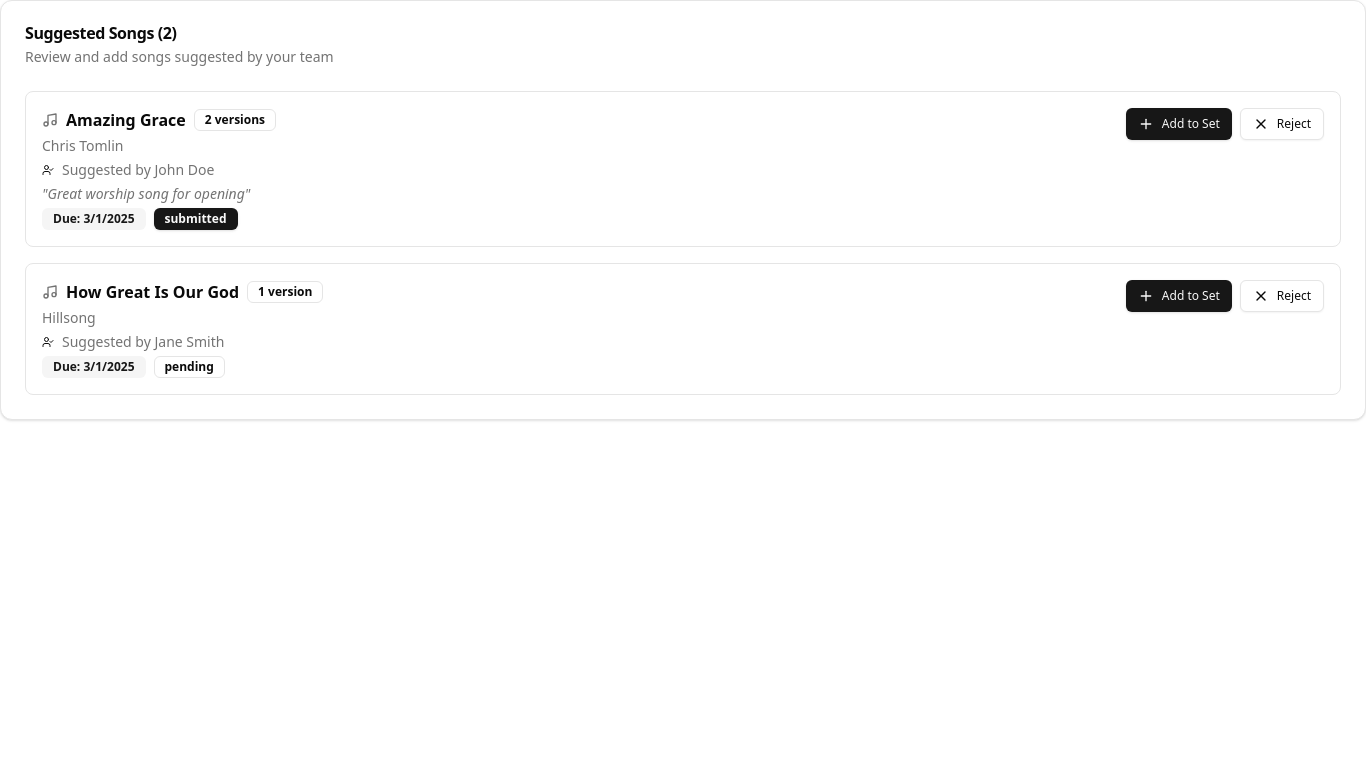
it: SuggestedSongs Component › Actions › should open version selection dialog when "Add to Set" clicked
The width and height of the screenshot is (1366, 768).
Click the button "Add to Set" in the row of "Amazing Grace" at [1179, 124], box left=1126, top=108, right=1232, bottom=140
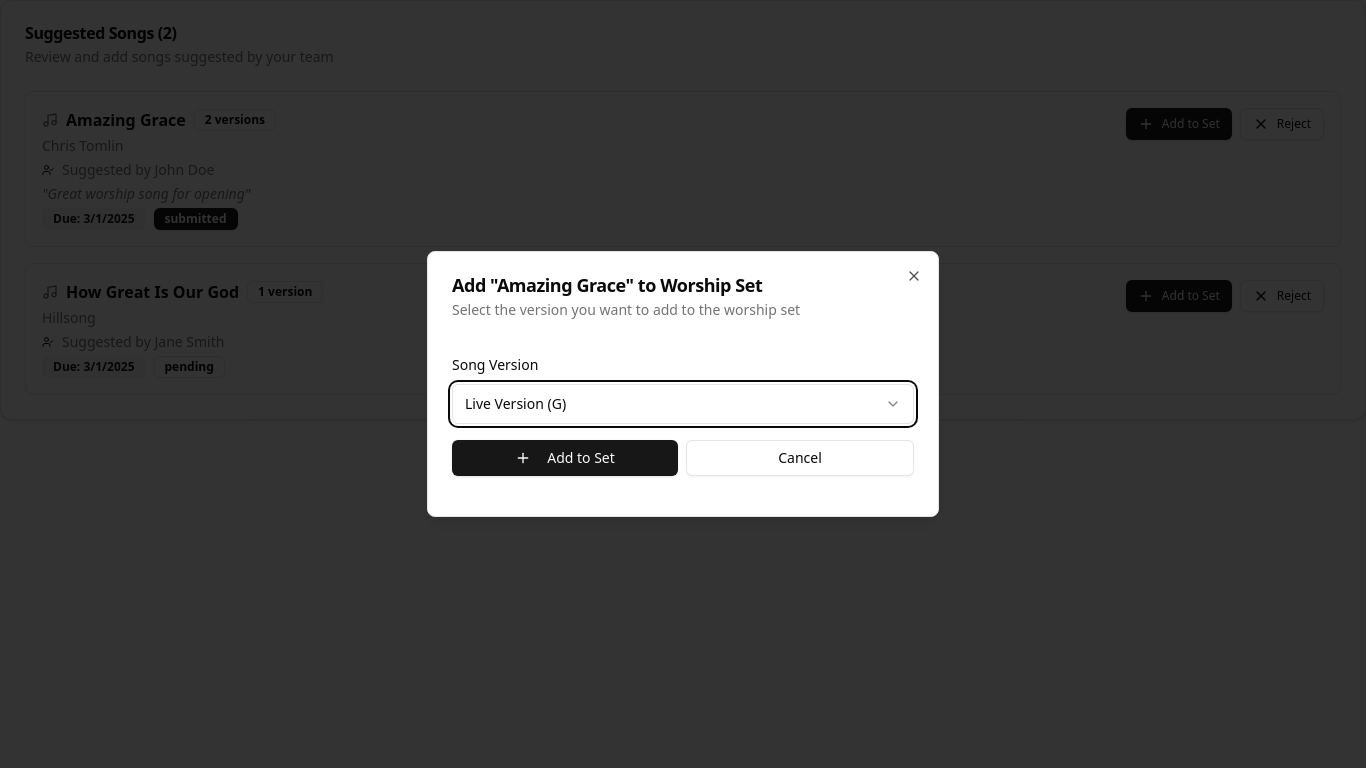
Now the heading "Add \"Amazing Grace\" to Worship Set" is shown, box left=452, top=273, right=762, bottom=297
Now the text "Select the version you want to add to the worship set" is shown, box left=452, top=300, right=800, bottom=319
